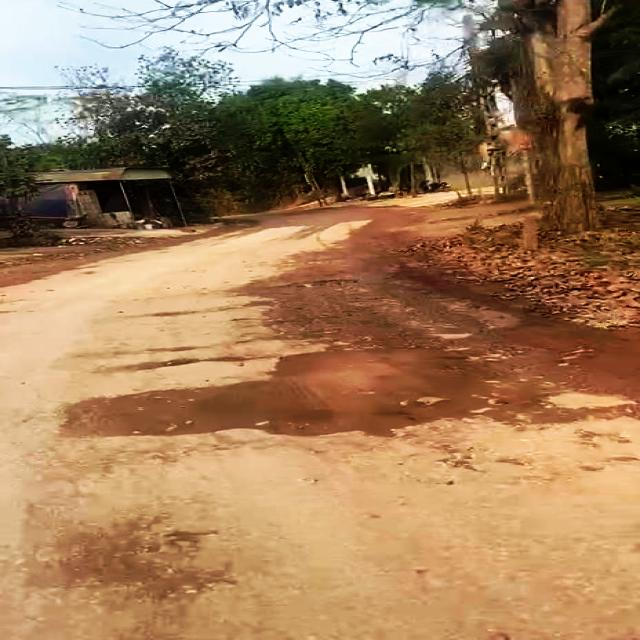pothole: (49, 342, 518, 444), (18, 497, 233, 599), (282, 276, 366, 292)
